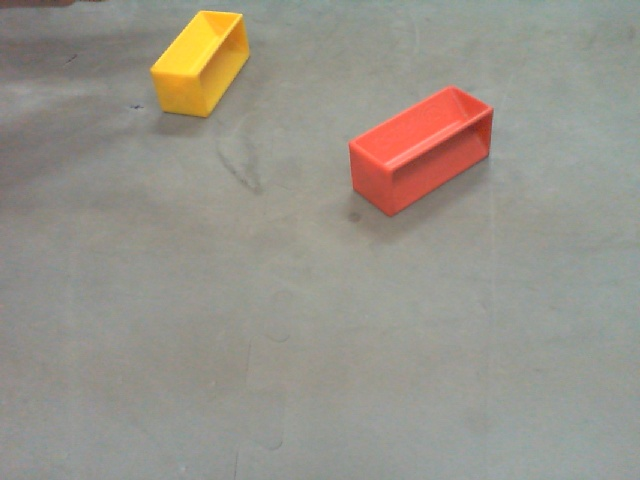RedSample: (347, 82, 497, 218)
YellowSample: (144, 8, 252, 123)
